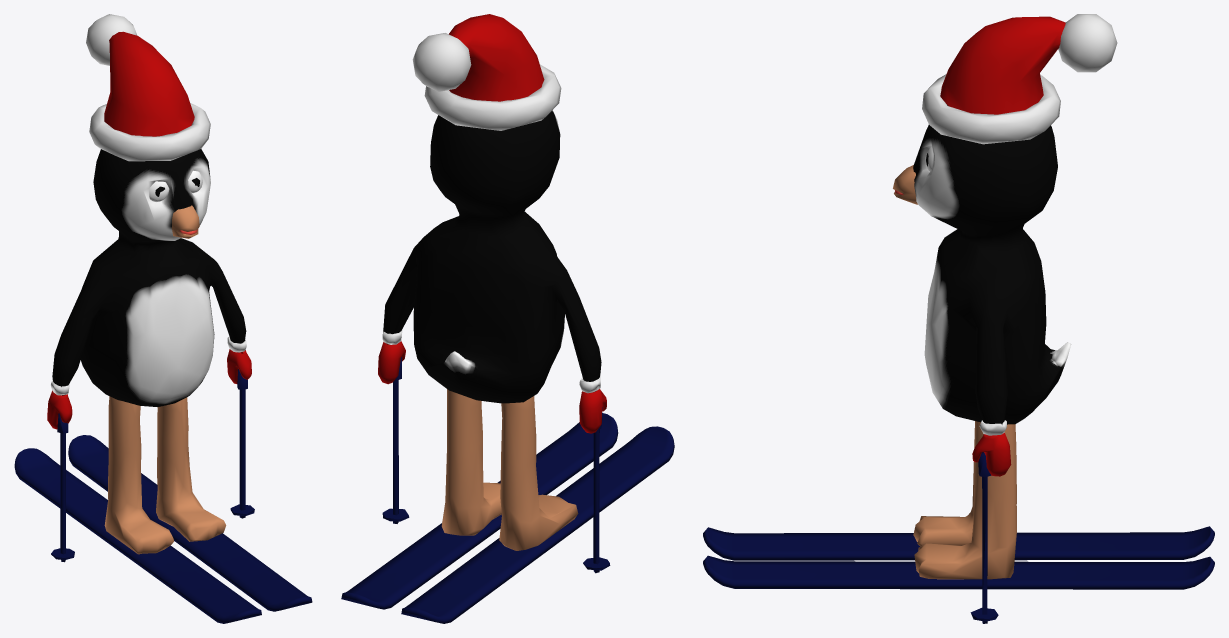
File: PenguinLP.fbx
3 views of the same model, side by side, from view 1: azimuth 30°, elevation 25°; view 2: azimuth 150°, elevation 25°; view 3: azimuth 270°, elevation 25° (orthographic). The views are drawn at different scales.
Visible parts, largest first — view 1: lpPenguin, lpSkis, lpChristmasHat, lpSkiSticks, lpMitten; view 2: lpPenguin, lpSkis, lpChristmasHat, lpSkiSticks, lpMitten; view 3: lpPenguin, lpSkis, lpChristmasHat, lpMitten, lpSkiSticks.
Boxes of the visible parts, <box> form: lpPenguin: <box>52,149,246,554</box>; lpSkis: <box>14,435,312,623</box>; lpChristmasHat: <box>86,14,210,161</box>; lpSkiSticks: <box>51,369,254,562</box>; lpMitten: <box>47,336,251,429</box>; lpPenguin: <box>383,110,601,550</box>; lpSkis: <box>341,413,674,623</box>; lpChristmasHat: <box>412,14,561,130</box>; lpSkiSticks: <box>382,357,610,573</box>; lpMitten: <box>378,329,606,433</box>; lpPenguin: <box>893,105,1071,579</box>; lpSkis: <box>703,526,1214,589</box>; lpChristmasHat: <box>922,14,1117,144</box>; lpMitten: <box>972,420,1011,476</box>; lpSkiSticks: <box>970,452,998,623</box>.
Bounding box in the file's own units: 231 × 542 × 449.
